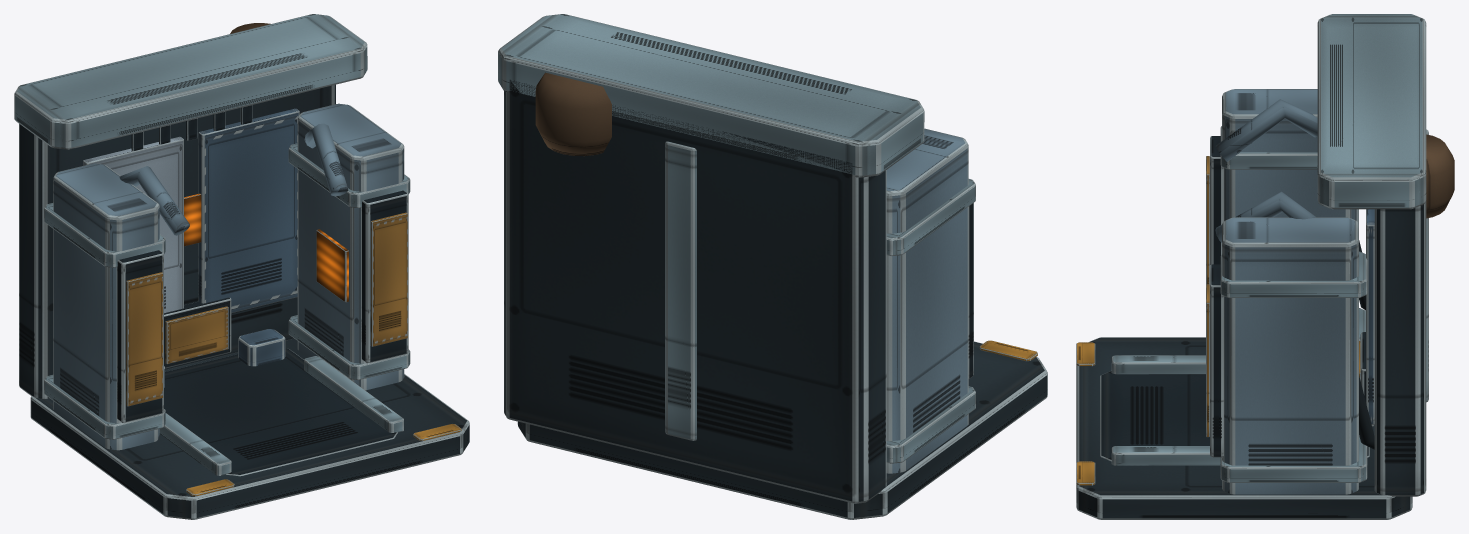
File: V46_SpecialDock.fbx
3 renders of one model, left to right at view 1: azimuth 30°, elevation 25°; view 2: azimuth 150°, elevation 25°; view 3: azimuth 270°, elevation 25°, orthographic. The views are drawn at different scales.
Parts seen in each view (by area): view 1: V46_SpecialDock; view 2: V46_SpecialDock; view 3: V46_SpecialDock.
Part boxes in pixels (x1,y1,x2,y2): V46_SpecialDock: [14, 14, 469, 519]; V46_SpecialDock: [498, 14, 1047, 519]; V46_SpecialDock: [1076, 14, 1454, 519].
Bounding box in the file's own units: 2.9 × 2.81 × 2.79.
